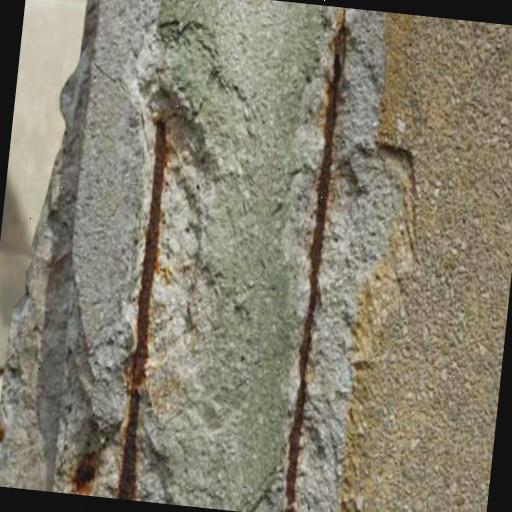spalling: (43, 0, 243, 492), (228, 11, 378, 507)
